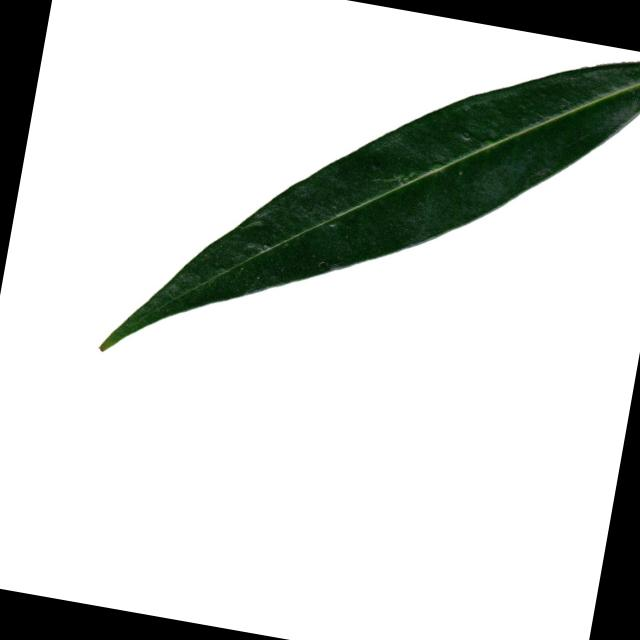Medicinal-Rose Apple: (101, 0, 640, 438)
